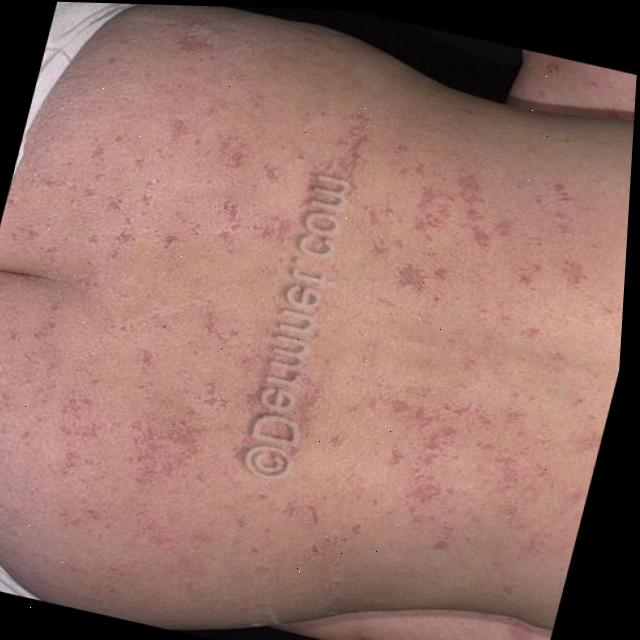Eczema: (0, 50, 637, 640)
